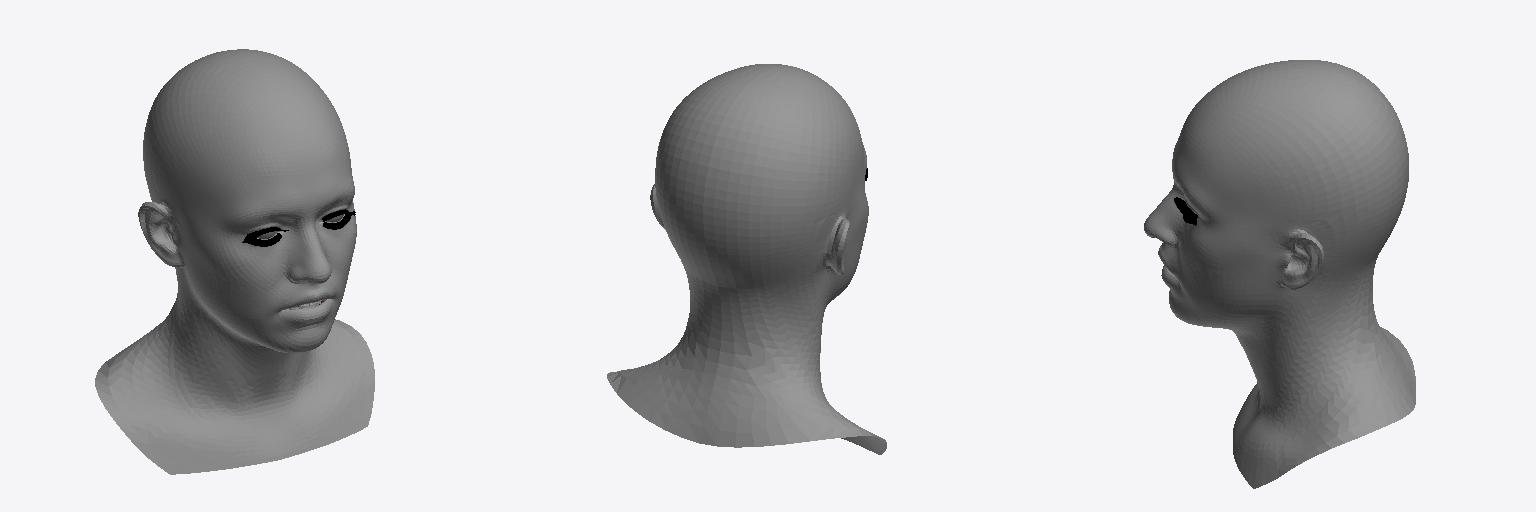
File: mouthShrugUpper.obj
3 renders of one model, left to right at view 1: azimuth 30°, elevation 25°; view 2: azimuth 150°, elevation 25°; view 3: azimuth 270°, elevation 25°, orthographic.
Size of the model in its own units: 24.83 by 33.81 by 22.32.